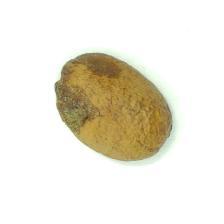NG: (54, 52, 122, 135)
